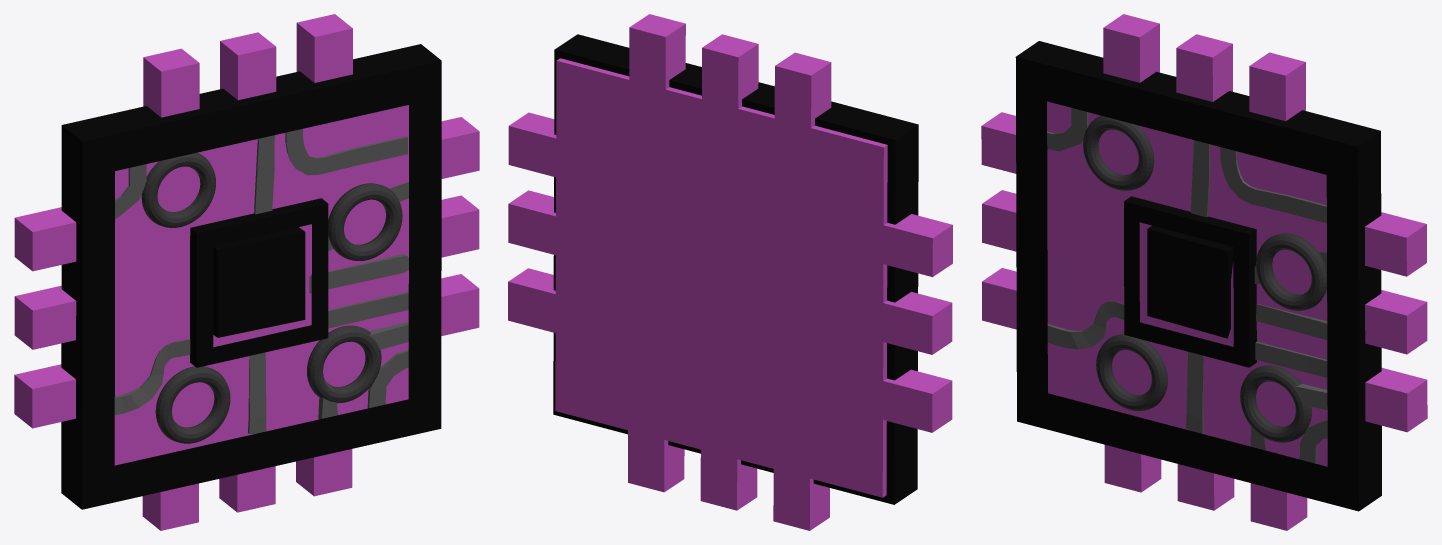
File: chip12.gltf
3 renders of one model, left to right at view 1: azimuth 30°, elevation 25°; view 2: azimuth 150°, elevation 25°; view 3: azimuth 330°, elevation 25°, orthographic.
Visible parts, largest first — view 1: Cube, Cube2, Cube1, Torus, Cube3, Cube4; view 2: Cube, Cube2; view 3: Cube, Cube2, Cube1, Torus, Cube3, Cube4.
Boxes of the visible parts, bbox=[...] form: Cube: bbox=[14, 14, 479, 530]; Cube2: bbox=[61, 44, 441, 509]; Cube1: bbox=[114, 129, 408, 433]; Torus: bbox=[141, 152, 402, 443]; Cube3: bbox=[190, 198, 328, 367]; Cube4: bbox=[213, 227, 305, 337]; Cube: bbox=[508, 14, 952, 530]; Cube2: bbox=[553, 34, 918, 504]; Cube: bbox=[981, 14, 1427, 530]; Cube2: bbox=[1015, 41, 1381, 511]; Cube1: bbox=[1047, 108, 1327, 463]; Torus: bbox=[1083, 115, 1326, 442]; Cube3: bbox=[1124, 196, 1256, 367]; Cube4: bbox=[1147, 225, 1233, 338].
Bounding box in the file's own units: 2.6 × 2.6 × 0.351.
